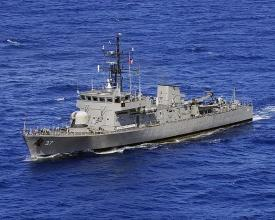warship: (16, 37, 253, 166)
